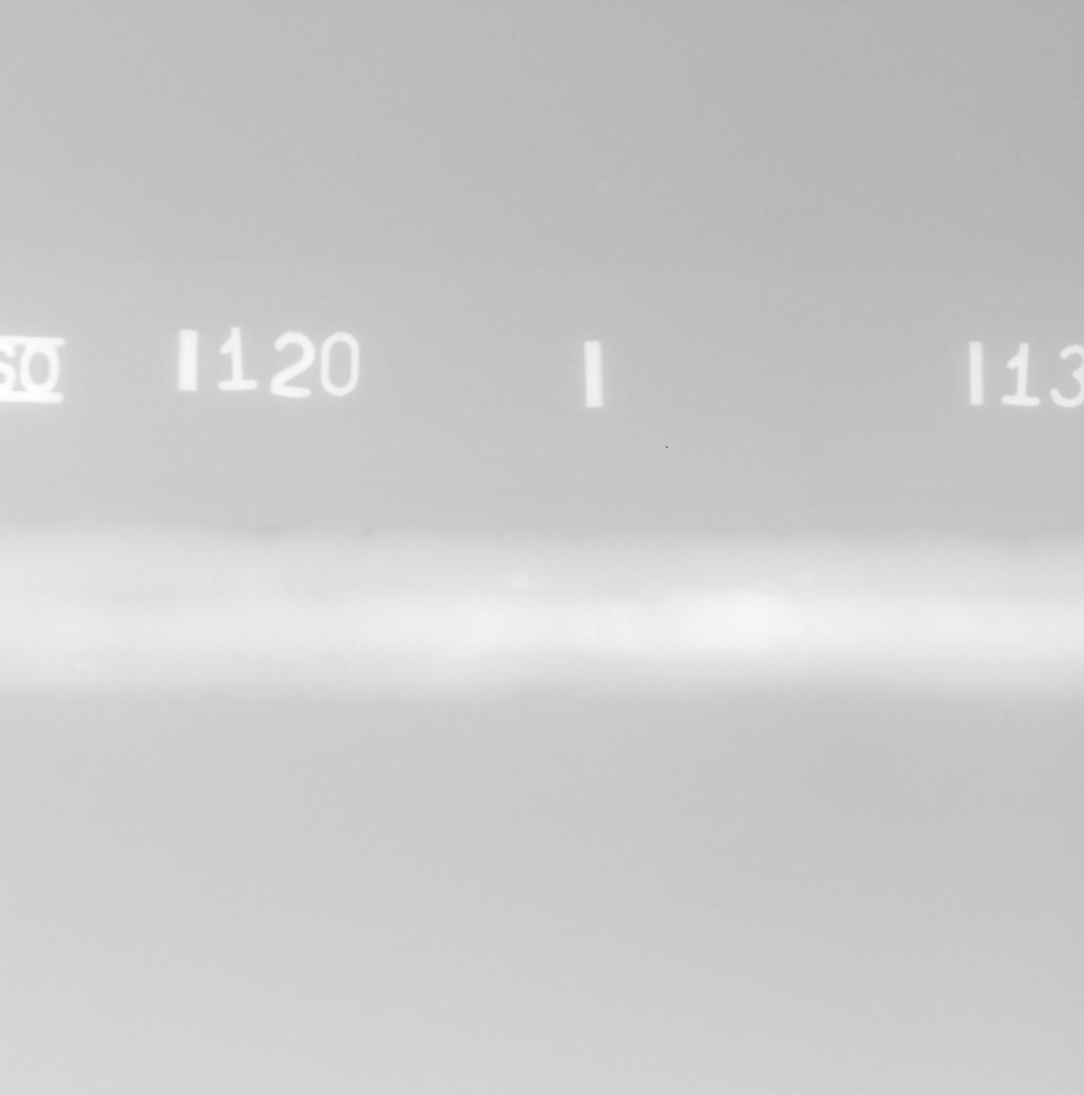Pore/Porosity: (754, 617, 760, 622), (78, 652, 83, 658)
Undercut: (257, 527, 275, 534), (364, 529, 376, 535)
